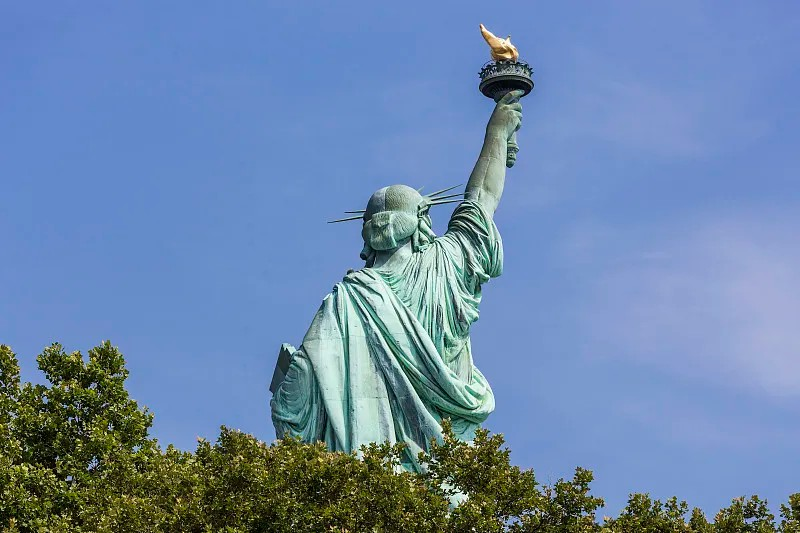SL: (267, 21, 534, 518)
